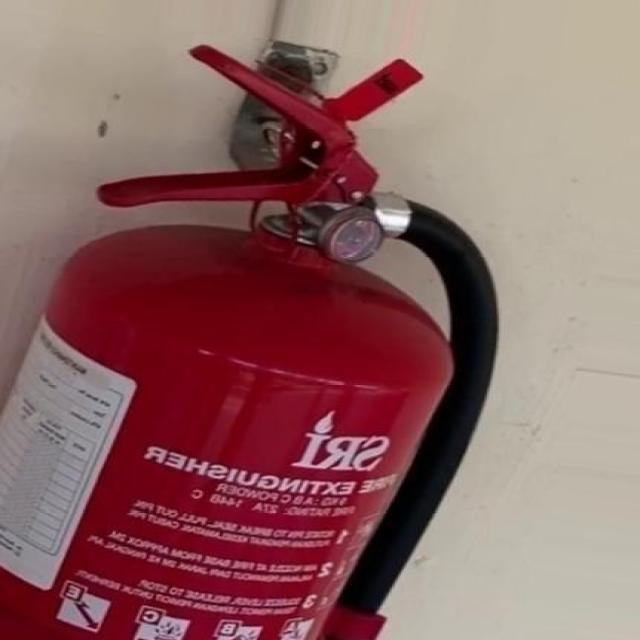fire_extinguisher: (0, 35, 509, 639)
